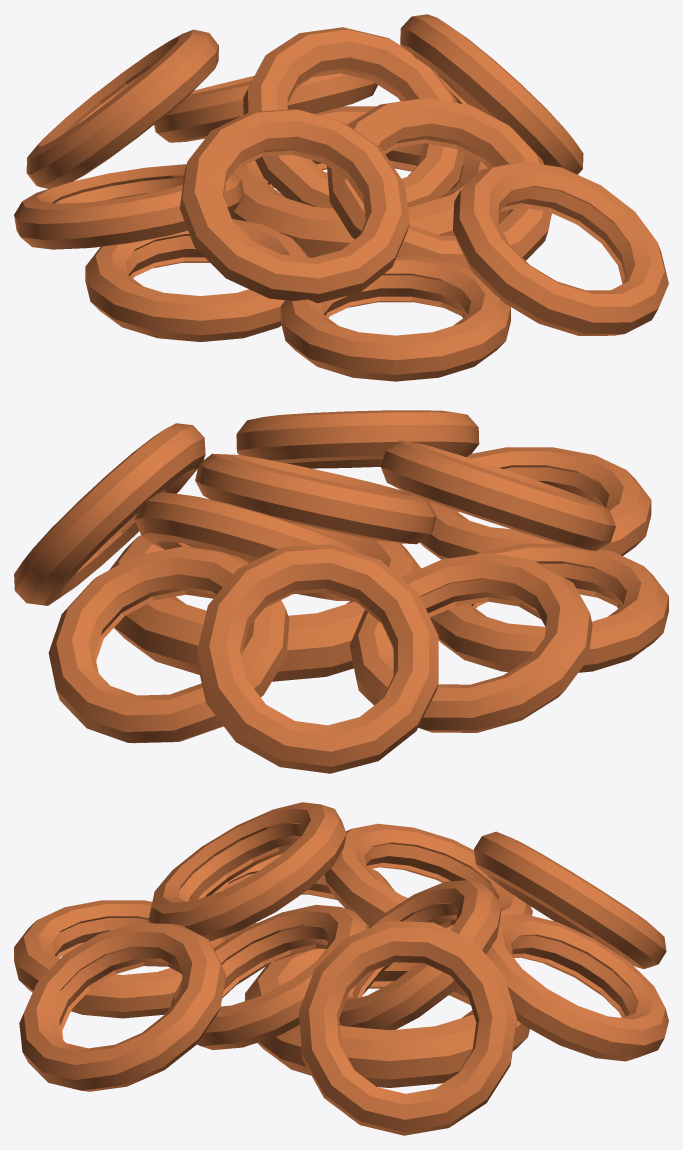
The model's file is onion-UV.fbx.
The picture shows the model from 3 angles, top to bottom: view 1: azimuth 30°, elevation 25°; view 2: azimuth 150°, elevation 25°; view 3: azimuth 270°, elevation 25°; orthographic projection. The views are drawn at different scales.
Visible parts, largest first — view 1: pTorus9, pTorus11, pTorus10, pTorus5, pTorus1, pTorus6, pTorus8, pTorus2, pTorus7, pTorus3, pTorus4; view 2: pTorus8, pTorus4, pTorus2, pTorus1, pTorus7, pTorus6, pTorus9, pTorus3, pTorus11, pTorus10, pTorus5; view 3: pTorus7, pTorus11, pTorus9, pTorus4, pTorus3, pTorus6, pTorus8, pTorus5, pTorus10, pTorus2, pTorus1.
Boxes of the visible parts, box(x1,y1,x2,y2) form: pTorus9: box(179, 109, 409, 303); pTorus11: box(453, 161, 668, 335); pTorus10: box(280, 256, 510, 381); pTorus5: box(243, 27, 464, 208); pTorus1: box(85, 219, 308, 341); pTorus6: box(327, 97, 551, 269); pTorus8: box(26, 29, 218, 188); pTorus2: box(14, 164, 243, 249); pTorus7: box(400, 14, 583, 174); pTorus3: box(231, 106, 508, 257); pTorus4: box(154, 73, 377, 142); pTorus8: box(196, 544, 438, 773); pTorus4: box(48, 546, 289, 743); pTorus2: box(349, 553, 592, 732); pTorus1: box(430, 543, 668, 672); pTorus7: box(14, 423, 205, 605); pTorus6: box(195, 453, 436, 544); pTorus9: box(380, 440, 615, 551); pTorus3: box(109, 523, 421, 681); pTorus11: box(236, 410, 479, 468); pTorus10: box(419, 447, 651, 559); pTorus5: box(135, 492, 363, 600); pTorus7: box(299, 921, 516, 1135); pTorus11: box(19, 923, 226, 1091); pTorus9: box(148, 802, 346, 941); pTorus4: box(486, 914, 668, 1061); pTorus3: box(245, 948, 529, 1087); pTorus6: box(170, 904, 368, 1050); pTorus8: box(474, 831, 666, 968); pTorus5: box(339, 880, 501, 1030); pTorus10: box(14, 900, 225, 1018); pTorus2: box(324, 823, 532, 930); pTorus1: box(212, 852, 394, 967).
Size of the model in its own units: 6.34 by 2.02 by 7.29.
Materials: 1 (1 with a texture image).
